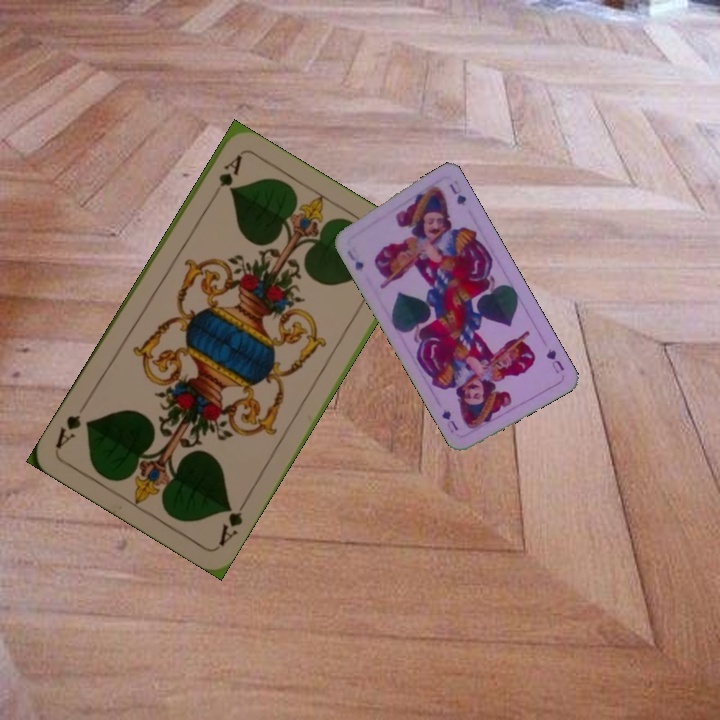GA: (206, 151, 244, 204), (214, 495, 250, 549)
GU: (542, 345, 567, 376), (342, 246, 366, 274)
